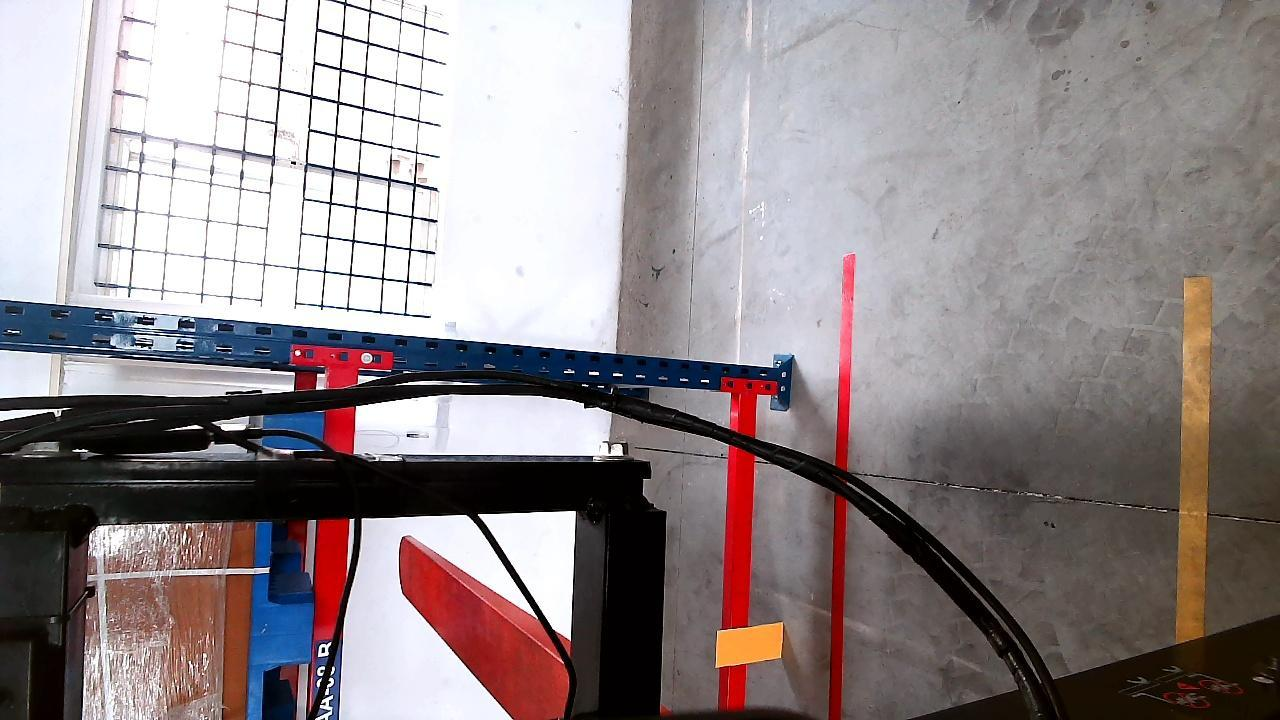red_line: (826, 258, 854, 720)
yellow_line: (1176, 267, 1212, 646)
